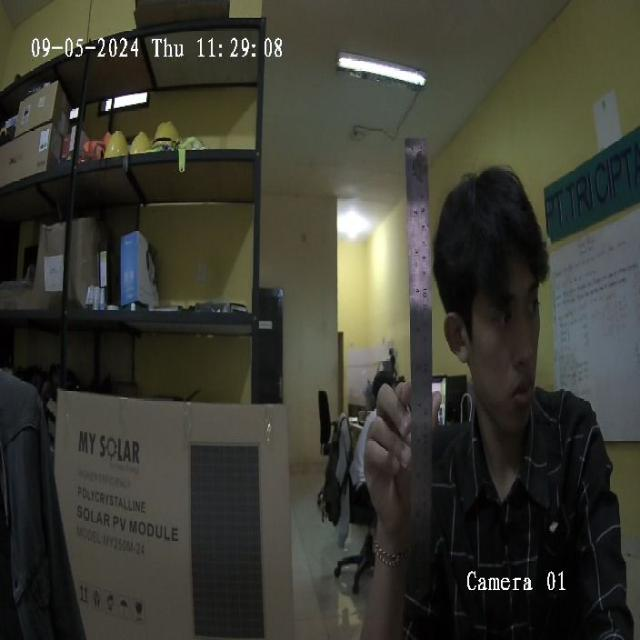Ruler: (405, 139, 432, 559)
